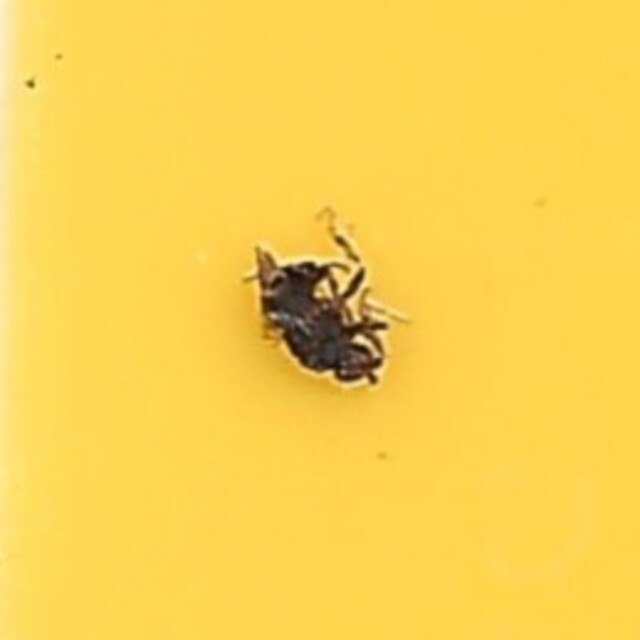Brachycera: (247, 252, 393, 388)
